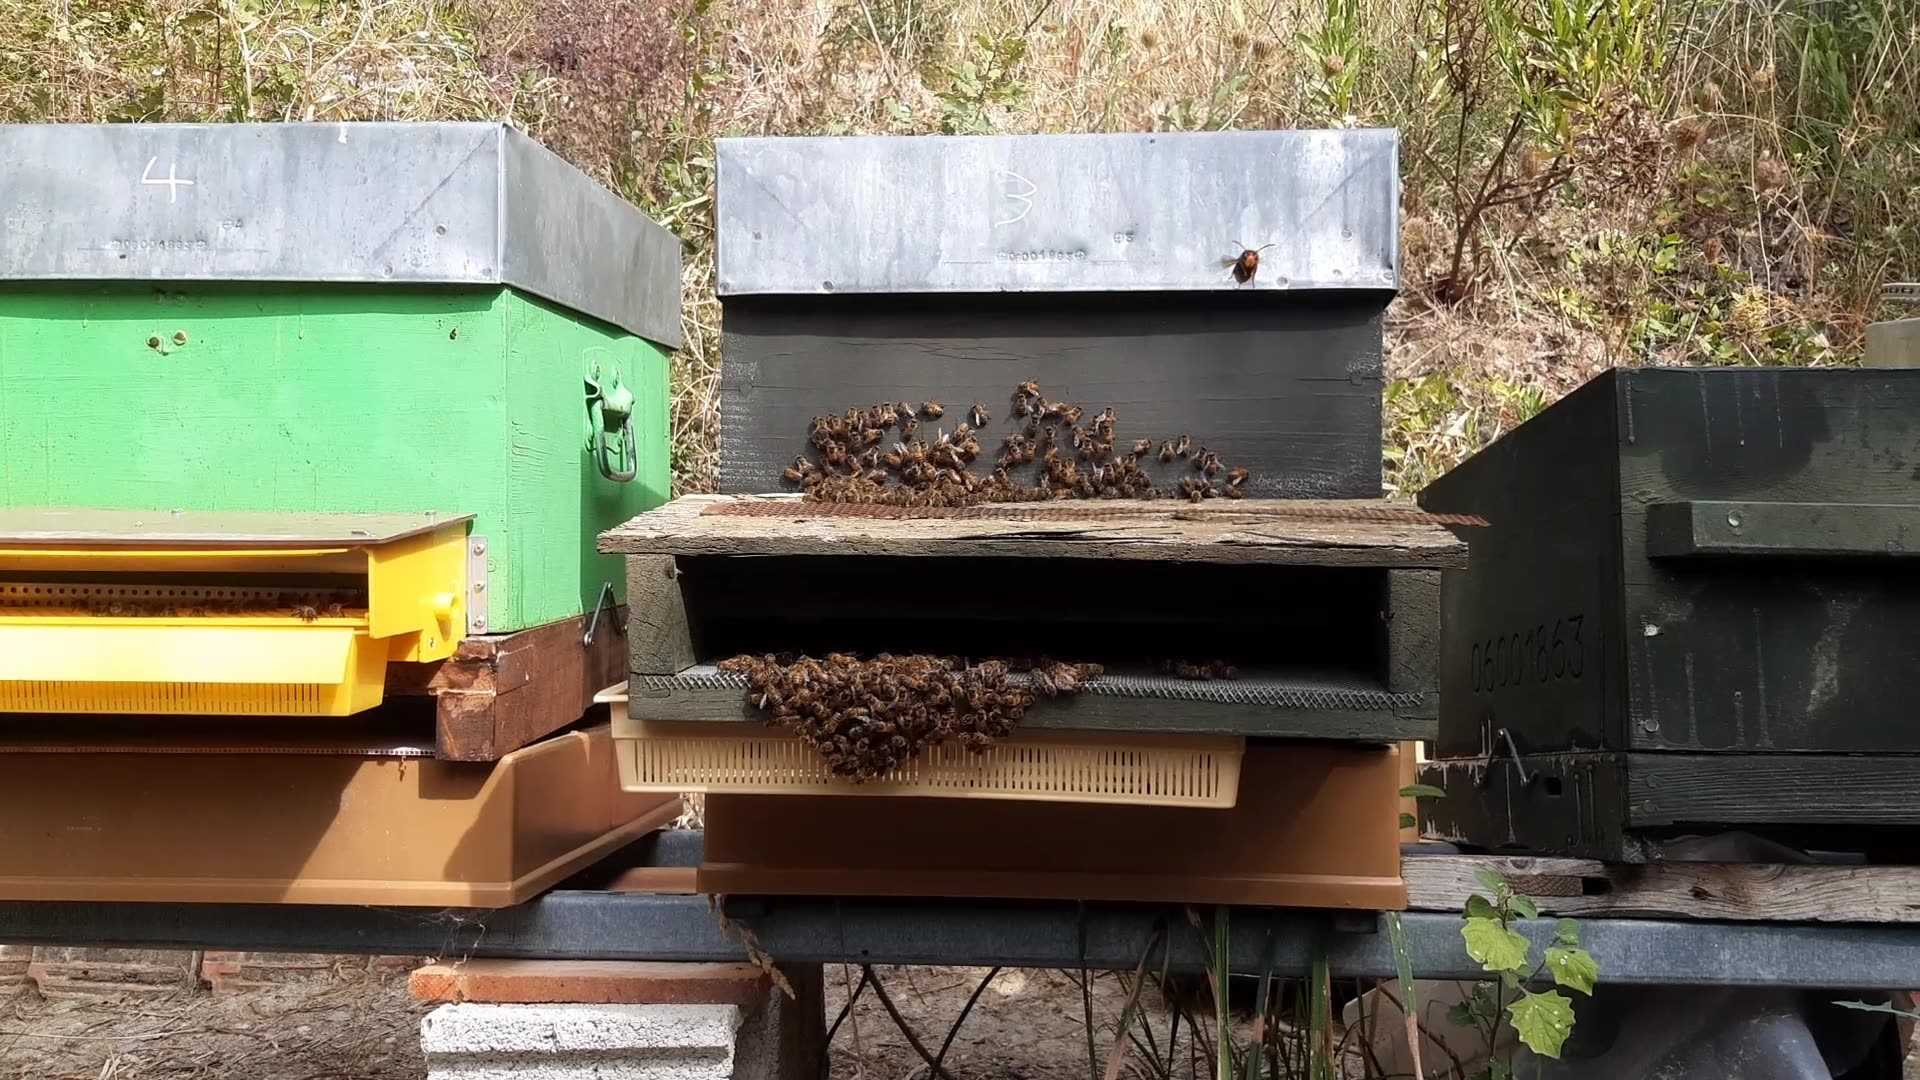bee: (837, 709, 916, 785), (953, 696, 1021, 764), (1164, 448, 1244, 498), (731, 669, 793, 729), (1021, 458, 1087, 512), (843, 406, 920, 451), (930, 468, 1001, 516), (1007, 396, 1075, 446), (833, 462, 897, 508), (905, 402, 971, 444), (1215, 237, 1261, 290), (833, 646, 926, 673)
